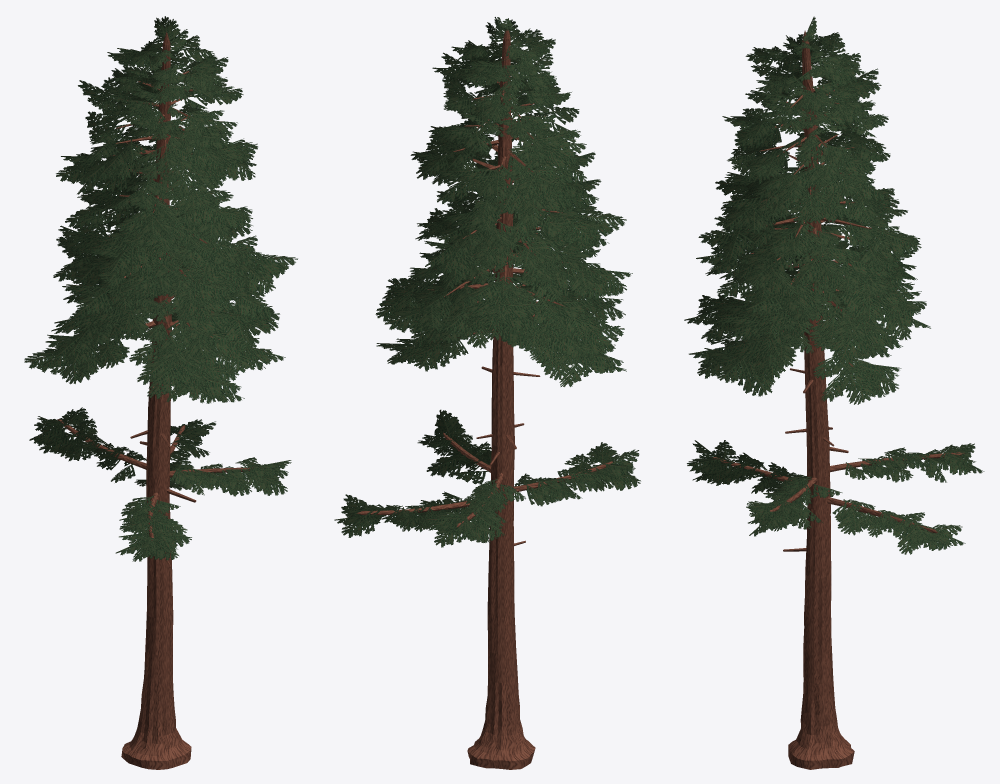
File: environment_redwood2_v2.fbx
3 views of the same model, side by side, from view 1: azimuth 30°, elevation 25°; view 2: azimuth 150°, elevation 25°; view 3: azimuth 270°, elevation 25° (orthographic).
Visible parts, largest first — view 1: environment_redwood2_v2_lod0; view 2: environment_redwood2_v2_lod0; view 3: environment_redwood2_v2_lod0.
Part boxes in pixels (bbox=[...]): environment_redwood2_v2_lod0: bbox=[24, 16, 297, 769]; environment_redwood2_v2_lod0: bbox=[334, 17, 640, 769]; environment_redwood2_v2_lod0: bbox=[684, 16, 984, 769].
Size of what is drawn, in the model's own units: 3017 by 8639 by 3266.
